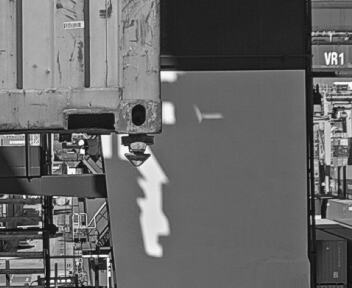twist_lock_2: (119, 128, 161, 172)
